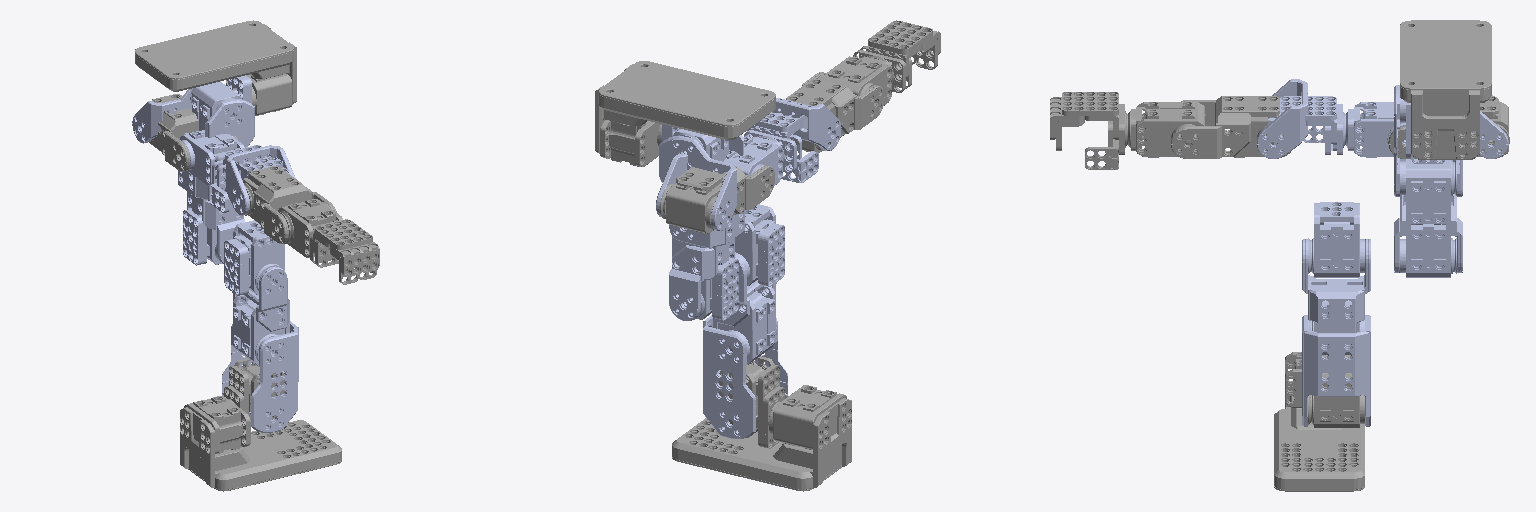
robot.urdf — MINI_URDF:
<?xml version="1.0" encoding="utf-8"?>
<!-- This URDF was automatically created by SolidWorks to URDF Exporter! Originally created by [author] ([email redacted]) 
     Commit Version: 1.5.1-0-g916b5db  Build Version: 1.5.7152.31018
     For more information, please see http://wiki.ros.org/sw_urdf_exporter -->
<robot
  name="MINI_URDF">
  <link
    name="Body">
    <inertial>
      <origin
        xyz="-0.000439782206750618 -0.00176289044495019 -0.0174893894432699"
        rpy="0 0 0" />
      <mass
        value="0.213114451983195" />
      <inertia
        ixx="8.021826343082E-05"
        ixy="-5.34931303519681E-08"
        ixz="1.34251842786594E-06"
        iyy="5.7436277552396E-05"
        iyz="-1.66268988929719E-08"
        izz="8.88874778029714E-05" />
    </inertial>
    <visual>
      <origin
        xyz="0 0 0"
        rpy="0 0 0" />
      <geometry>
        <mesh
          filename="package://MINI_URDF/meshes/Body.STL" />
      </geometry>
      <material
        name="">
        <color
          rgba="0.792156862745098 0.819607843137255 0.933333333333333 1" />
      </material>
    </visual>
    <collision>
      <origin
        xyz="0 0 0"
        rpy="0 0 0" />
      <geometry>
        <mesh
          filename="package://MINI_URDF/meshes/Body.STL" />
      </geometry>
    </collision>
  </link>
  <link
    name="R_arm_01">
    <inertial>
      <origin
        xyz="-1.41270281734611E-09 0.00915593369616421 -0.00456865100998947"
        rpy="0 0 0" />
      <mass
        value="0.0042561997534057" />
      <inertia
        ixx="4.75526787509665E-07"
        ixy="-2.7575584339645E-14"
        ixz="5.17770576673832E-14"
        iyy="1.10384151673514E-06"
        iyz="1.26621947092055E-07"
        izz="1.10650237204247E-06" />
    </inertial>
    <visual>
      <origin
        xyz="0 0 0"
        rpy="0 0 0" />
      <geometry>
        <mesh
          filename="package://MINI_URDF/meshes/R_arm_01.STL" />
      </geometry>
      <material
        name="">
        <color
          rgba="0.792156862745098 0.819607843137255 0.933333333333333 1" />
      </material>
    </visual>
    <collision>
      <origin
        xyz="0 0 0"
        rpy="0 0 0" />
      <geometry>
        <mesh
          filename="package://MINI_URDF/meshes/R_arm_01.STL" />
      </geometry>
    </collision>
  </link>
  <joint
    name="Joint_01"
    type="continuous">
    <origin
      xyz="0 -0.0389984717412249 0"
      rpy="0 0 3.14159265358979" />
    <parent
      link="Body" />
    <child
      link="R_arm_01" />
    <axis
      xyz="0 1 0" />
  </joint>
  <link
    name="R_arm_02">
    <inertial>
      <origin
        xyz="-0.000970492346490484 -0.0120458330772966 5.46980825607946E-05"
        rpy="0 0 0" />
      <mass
        value="0.0230012005288788" />
      <inertia
        ixx="4.15271742011055E-06"
        ixy="2.84313451261272E-07"
        ixz="2.1282747112138E-13"
        iyy="2.79006394276471E-06"
        iyz="-6.22945892654356E-08"
        izz="3.19855855058084E-06" />
    </inertial>
    <visual>
      <origin
        xyz="0 0 0"
        rpy="0 0 0" />
      <geometry>
        <mesh
          filename="package://MINI_URDF/meshes/R_arm_02.STL" />
      </geometry>
      <material
        name="">
        <color
          rgba="0.698039215686274 0.698039215686274 0.698039215686274 1" />
      </material>
    </visual>
    <collision>
      <origin
        xyz="0 0 0"
        rpy="0 0 0" />
      <geometry>
        <mesh
          filename="package://MINI_URDF/meshes/R_arm_02.STL" />
      </geometry>
    </collision>
  </link>
  <joint
    name="Joint_03"
    type="continuous">
    <origin
      xyz="0 0.0180015282587752 -0.0119999999999994"
      rpy="3.14159265358979 1.5707963267949 0" />
    <parent
      link="R_arm_01" />
    <child
      link="R_arm_02" />
    <axis
      xyz="0 0 1" />
  </joint>
  <link
    name="R_arm_03">
    <inertial>
      <origin
        xyz="-0.0012870653720509 -0.0199985926013708 -0.000178609255191555"
        rpy="0 0 0" />
      <mass
        value="0.0261581629564249" />
      <inertia
        ixx="2.73594377881704E-06"
        ixy="1.32989095115653E-08"
        ixz="2.36320882169955E-13"
        iyy="1.96473201193679E-06"
        iyz="-5.56452220588899E-08"
        izz="2.36571031389844E-06" />
    </inertial>
    <visual>
      <origin
        xyz="0 0 0"
        rpy="0 0 0" />
      <geometry>
        <mesh
          filename="package://MINI_URDF/meshes/R_arm_03.STL" />
      </geometry>
      <material
        name="">
        <color
          rgba="0.698039215686274 0.698039215686274 0.698039215686274 1" />
      </material>
    </visual>
    <collision>
      <origin
        xyz="0 0 0"
        rpy="0 0 0" />
      <geometry>
        <mesh
          filename="package://MINI_URDF/meshes/R_arm_03.STL" />
      </geometry>
    </collision>
  </link>
  <joint
    name="Joint_05"
    type="continuous">
    <origin
      xyz="0 -0.0449999999999999 0"
      rpy="0 0 0" />
    <parent
      link="R_arm_02" />
    <child
      link="R_arm_03" />
    <axis
      xyz="0 0 1" />
  </joint>
  <link
    name="L_arm_01">
    <inertial>
      <origin
        xyz="-1.41270208792719E-09 0.00915593369616433 -0.0045686510099891"
        rpy="0 0 0" />
      <mass
        value="0.0042561997534061" />
      <inertia
        ixx="4.75526787509679E-07"
        ixy="-2.75755880377047E-14"
        ixz="5.17770409744892E-14"
        iyy="1.10384151673518E-06"
        iyz="1.26621947092053E-07"
        izz="1.1065023720425E-06" />
    </inertial>
    <visual>
      <origin
        xyz="0 0 0"
        rpy="0 0 0" />
      <geometry>
        <mesh
          filename="package://MINI_URDF/meshes/L_arm_01.STL" />
      </geometry>
      <material
        name="">
        <color
          rgba="0.792156862745098 0.819607843137255 0.933333333333333 1" />
      </material>
    </visual>
    <collision>
      <origin
        xyz="0 0 0"
        rpy="0 0 0" />
      <geometry>
        <mesh
          filename="package://MINI_URDF/meshes/L_arm_01.STL" />
      </geometry>
    </collision>
  </link>
  <joint
    name="Joint_02"
    type="continuous">
    <origin
      xyz="0 0.0389984717412249 0"
      rpy="0 0 0" />
    <parent
      link="Body" />
    <child
      link="L_arm_01" />
    <axis
      xyz="0 1 0" />
  </joint>
  <link
    name="L_arm_02">
    <inertial>
      <origin
        xyz="0.000970490232161884 0.0120458330772935 -5.46978612398829E-05"
        rpy="0 0 0" />
      <mass
        value="0.0230012005288788" />
      <inertia
        ixx="4.1527174201124E-06"
        ixy="2.84312896323333E-07"
        ixz="-2.12827267447162E-13"
        iyy="2.79006394276285E-06"
        iyz="-6.22944868971583E-08"
        izz="3.19855855058084E-06" />
    </inertial>
    <visual>
      <origin
        xyz="0 0 0"
        rpy="0 0 0" />
      <geometry>
        <mesh
          filename="package://MINI_URDF/meshes/L_arm_02.STL" />
      </geometry>
      <material
        name="">
        <color
          rgba="0.698039215686274 0.698039215686274 0.698039215686274 1" />
      </material>
    </visual>
    <collision>
      <origin
        xyz="0 0 0"
        rpy="0 0 0" />
      <geometry>
        <mesh
          filename="package://MINI_URDF/meshes/L_arm_02.STL" />
      </geometry>
    </collision>
  </link>
  <joint
    name="Joint_04"
    type="continuous">
    <origin
      xyz="0 0.0180015282587751 -0.012"
      rpy="3.14159265358979 -1.5707963267949 0" />
    <parent
      link="L_arm_01" />
    <child
      link="L_arm_02" />
    <axis
      xyz="0 0 1" />
  </joint>
  <link
    name="L_arm_03">
    <inertial>
      <origin
        xyz="-0.00128706351292113 0.0199985926013671 -0.000178609255192081"
        rpy="0 0 0" />
      <mass
        value="0.0261581629564249" />
      <inertia
        ixx="2.73594377881712E-06"
        ixy="-1.32983545758053E-08"
        ixz="-2.36321046698564E-13"
        iyy="1.96473201193671E-06"
        iyz="5.56452220588883E-08"
        izz="2.36571031389844E-06" />
    </inertial>
    <visual>
      <origin
        xyz="0 0 0"
        rpy="0 0 0" />
      <geometry>
        <mesh
          filename="package://MINI_URDF/meshes/L_arm_03.STL" />
      </geometry>
      <material
        name="">
        <color
          rgba="0.792156862745098 0.819607843137255 0.933333333333333 1" />
      </material>
    </visual>
    <collision>
      <origin
        xyz="0 0 0"
        rpy="0 0 0" />
      <geometry>
        <mesh
          filename="package://MINI_URDF/meshes/L_arm_03.STL" />
      </geometry>
    </collision>
  </link>
  <joint
    name="Joint_06"
    type="continuous">
    <origin
      xyz="0 0.045 0"
      rpy="3.14159265358979 0 3.14159265358979" />
    <parent
      link="L_arm_02" />
    <child
      link="L_arm_03" />
    <axis
      xyz="0 0 1" />
  </joint>
  <link
    name="R_Leg_01">
    <inertial>
      <origin
        xyz="-0.00122067250788746 0.0135315873125858 6.32144396904115E-05"
        rpy="0 0 0" />
      <mass
        value="0.0199023992993582" />
      <inertia
        ixx="1.60303748122172E-06"
        ixy="-2.77466745514351E-13"
        ixz="-6.22945380812989E-08"
        iyy="2.4687856445552E-06"
        iyz="-2.3632088238629E-13"
        izz="2.15851329852161E-06" />
    </inertial>
    <visual>
      <origin
        xyz="0 0 0"
        rpy="0 0 0" />
      <geometry>
        <mesh
          filename="package://MINI_URDF/meshes/R_Leg_01.STL" />
      </geometry>
      <material
        name="">
        <color
          rgba="0.792156862745098 0.819607843137255 0.933333333333333 1" />
      </material>
    </visual>
    <collision>
      <origin
        xyz="0 0 0"
        rpy="0 0 0" />
      <geometry>
        <mesh
          filename="package://MINI_URDF/meshes/R_Leg_01.STL" />
      </geometry>
    </collision>
  </link>
  <joint
    name="Joint_07"
    type="continuous">
    <origin
      xyz="0 0.0240000000000037 -0.0719999999999993"
      rpy="1.5707963267949 1.5707963267949 0" />
    <parent
      link="Body" />
    <child
      link="R_Leg_01" />
    <axis
      xyz="0 1 0" />
  </joint>
  <link
    name="R_Leg_02">
    <inertial>
      <origin
        xyz="-5.46980825605579E-05 -0.0329541669227093 0.000970492346435132"
        rpy="0 0 0" />
      <mass
        value="0.0230012005288787" />
      <inertia
        ixx="3.19855855058083E-06"
        ixy="-6.22945892654359E-08"
        ixz="2.1282708665169E-13"
        iyy="2.79006394276121E-06"
        iyz="2.84313451252895E-07"
        izz="4.15271742011404E-06" />
    </inertial>
    <visual>
      <origin
        xyz="0 0 0"
        rpy="0 0 0" />
      <geometry>
        <mesh
          filename="package://MINI_URDF/meshes/R_Leg_02.STL" />
      </geometry>
      <material
        name="">
        <color
          rgba="0.792156862745098 0.819607843137255 0.933333333333333 1" />
      </material>
    </visual>
    <collision>
      <origin
        xyz="0 0 0"
        rpy="0 0 0" />
      <geometry>
        <mesh
          filename="package://MINI_URDF/meshes/R_Leg_02.STL" />
      </geometry>
    </collision>
  </link>
  <joint
    name="Joint_09"
    type="continuous">
    <origin
      xyz="0.00600000000000055 0.0150000000000001 0"
      rpy="1.5707963267949 1.5707963267949 0" />
    <parent
      link="R_Leg_01" />
    <child
      link="R_Leg_02" />
    <axis
      xyz="1 0 0" />
  </joint>
  <link
    name="R_Leg_03">
    <inertial>
      <origin
        xyz="5.03561500136973E-09 0.00688303209752944 0.0178997451661066"
        rpy="0 0 0" />
      <mass
        value="0.00898936103979326" />
      <inertia
        ixx="3.47626399724043E-06"
        ixy="-2.88931223149452E-13"
        ixz="-3.91806212359718E-13"
        iyy="4.72558607476186E-06"
        iyz="4.51182757181925E-07"
        izz="2.97044041191188E-06" />
    </inertial>
    <visual>
      <origin
        xyz="0 0 0"
        rpy="0 0 0" />
      <geometry>
        <mesh
          filename="package://MINI_URDF/meshes/R_Leg_03.STL" />
      </geometry>
      <material
        name="">
        <color
          rgba="0.792156862745098 0.819607843137255 0.933333333333333 1" />
      </material>
    </visual>
    <collision>
      <origin
        xyz="0 0 0"
        rpy="0 0 0" />
      <geometry>
        <mesh
          filename="package://MINI_URDF/meshes/R_Leg_03.STL" />
      </geometry>
    </collision>
  </link>
  <joint
    name="Joint_11"
    type="continuous">
    <origin
      xyz="0 -0.045 0"
      rpy="1.5707963267949 0 0" />
    <parent
      link="R_Leg_02" />
    <child
      link="R_Leg_03" />
    <axis
      xyz="1 0 0" />
  </joint>
  <link
    name="R_Leg_04">
    <inertial>
      <origin
        xyz="-0.00316088425248871 -6.42923681117707E-05 -0.00564953700906368"
        rpy="0 0 0" />
      <mass
        value="0.0195687148748515" />
      <inertia
        ixx="2.07165533917271E-06"
        ixy="4.40487232041522E-08"
        ixz="-4.99651940806277E-07"
        iyy="2.25015128902117E-06"
        iyz="4.40490574121883E-08"
        izz="2.07165478424287E-06" />
    </inertial>
    <visual>
      <origin
        xyz="0 0 0"
        rpy="0 0 0" />
      <geometry>
        <mesh
          filename="package://MINI_URDF/meshes/R_Leg_04.STL" />
      </geometry>
      <material
        name="">
        <color
          rgba="0.792156862745098 0.819607843137255 0.933333333333333 1" />
      </material>
    </visual>
    <collision>
      <origin
        xyz="0 0 0"
        rpy="0 0 0" />
      <geometry>
        <mesh
          filename="package://MINI_URDF/meshes/R_Leg_04.STL" />
      </geometry>
    </collision>
  </link>
  <joint
    name="Joint_13"
    type="continuous">
    <origin
      xyz="0 0 0.042"
      rpy="0 -0.785398163399273 -1.5707963267949" />
    <parent
      link="R_Leg_03" />
    <child
      link="R_Leg_04" />
    <axis
      xyz="0 1 0" />
  </joint>
  <link
    name="R_Leg_05">
    <inertial>
      <origin
        xyz="-0.0122476227027532 0.00800871149336697 0.0210614114822718"
        rpy="0 0 0" />
      <mass
        value="0.036528862342176" />
      <inertia
        ixx="2.06601022349226E-05"
        ixy="-6.84109636015955E-14"
        ixz="-1.52663419708559E-06"
        iyy="1.66434196036715E-05"
        iyz="-6.22941742118654E-08"
        izz="6.87373955773601E-06" />
    </inertial>
    <visual>
      <origin
        xyz="0 0 0"
        rpy="0 0 0" />
      <geometry>
        <mesh
          filename="package://MINI_URDF/meshes/R_Leg_05.STL" />
      </geometry>
      <material
        name="">
        <color
          rgba="0.698039215686274 0.698039215686274 0.698039215686274 1" />
      </material>
    </visual>
    <collision>
      <origin
        xyz="0 0 0"
        rpy="0 0 0" />
      <geometry>
        <mesh
          filename="package://MINI_URDF/meshes/R_Leg_05.STL" />
      </geometry>
    </collision>
  </link>
  <joint
    name="Joint_15"
    type="continuous">
    <origin
      xyz="0 0 0"
      rpy="-3.14159265358979 0.785398163395624 3.14159265358979" />
    <parent
      link="R_Leg_04" />
    <child
      link="R_Leg_05" />
    <axis
      xyz="0 0 1" />
  </joint>
  <link
    name="L_Leg_01">
    <inertial>
      <origin
        xyz="0.0012206725078875 -0.0135315848690106 -6.32144396902658E-05"
        rpy="0 0 0" />
      <mass
        value="0.0199023992993582" />
      <inertia
        ixx="1.60303748122172E-06"
        ixy="2.77466746166113E-13"
        ixz="-6.22945380812994E-08"
        iyy="2.46878564455521E-06"
        iyz="2.36320882928122E-13"
        izz="2.15851329852161E-06" />
    </inertial>
    <visual>
      <origin
        xyz="0 0 0"
        rpy="0 0 0" />
      <geometry>
        <mesh
          filename="package://MINI_URDF/meshes/L_Leg_01.STL" />
      </geometry>
      <material
        name="">
        <color
          rgba="0.792156862745098 0.819607843137255 0.933333333333333 1" />
      </material>
    </visual>
    <collision>
      <origin
        xyz="0 0 0"
        rpy="0 0 0" />
      <geometry>
        <mesh
          filename="package://MINI_URDF/meshes/L_Leg_01.STL" />
      </geometry>
    </collision>
  </link>
  <joint
    name="Joint_08"
    type="continuous">
    <origin
      xyz="0 -0.024 -0.072"
      rpy="1.5707963267949 -1.5707963267949 0" />
    <parent
      link="Body" />
    <child
      link="L_Leg_01" />
    <axis
      xyz="0 1 0" />
  </joint>
  <link
    name="L_Leg_02">
    <inertial>
      <origin
        xyz="5.46978612398705E-05 -0.0329541669227048 0.000970490232217826"
        rpy="0 0 0" />
      <mass
        value="0.0230012005288788" />
      <inertia
        ixx="3.19855855058084E-06"
        ixy="6.22944868971592E-08"
        ixz="2.12827161630443E-13"
        iyy="2.79006394276382E-06"
        iyz="2.84312896325649E-07"
        izz="4.15271742011144E-06" />
    </inertial>
    <visual>
      <origin
        xyz="0 0 0"
        rpy="0 0 0" />
      <geometry>
        <mesh
          filename="package://MINI_URDF/meshes/L_Leg_02.STL" />
      </geometry>
      <material
        name="">
        <color
          rgba="0.792156862745098 0.819607843137255 0.933333333333333 1" />
      </material>
    </visual>
    <collision>
      <origin
        xyz="0 0 0"
        rpy="0 0 0" />
      <geometry>
        <mesh
          filename="package://MINI_URDF/meshes/L_Leg_02.STL" />
      </geometry>
    </collision>
  </link>
  <joint
    name="Joint_10"
    type="continuous">
    <origin
      xyz="-0.00600000000000001 -0.0150000000000001 0"
      rpy="1.5707963267949 1.5707963267949 0" />
    <parent
      link="L_Leg_01" />
    <child
      link="L_Leg_02" />
    <axis
      xyz="1 0 0" />
  </joint>
  <link
    name="L_Leg_03">
    <inertial>
      <origin
        xyz="5.03561412359965E-09 0.00688303209746471 0.0178997451661317"
        rpy="0 0 0" />
      <mass
        value="0.00898936103979274" />
      <inertia
        ixx="3.47626399724036E-06"
        ixy="-2.88931315682323E-13"
        ixz="-3.91806204278018E-13"
        iyy="4.72558607475848E-06"
        iyz="4.51182757188346E-07"
        izz="2.97044041191501E-06" />
    </inertial>
    <visual>
      <origin
        xyz="0 0 0"
        rpy="0 0 0" />
      <geometry>
        <mesh
          filename="package://MINI_URDF/meshes/L_Leg_03.STL" />
      </geometry>
      <material
        name="">
        <color
          rgba="0.792156862745098 0.819607843137255 0.933333333333333 1" />
      </material>
    </visual>
    <collision>
      <origin
        xyz="0 0 0"
        rpy="0 0 0" />
      <geometry>
        <mesh
          filename="package://MINI_URDF/meshes/L_Leg_03.STL" />
      </geometry>
    </collision>
  </link>
  <joint
    name="Joint_12"
    type="continuous">
    <origin
      xyz="0 -0.045 0"
      rpy="1.5707963267949 0 0" />
    <parent
      link="L_Leg_02" />
    <child
      link="L_Leg_03" />
    <axis
      xyz="1 0 0" />
  </joint>
  <link
    name="L_Leg_04">
    <inertial>
      <origin
        xyz="-0.00175974572544712 -0.00622990861915076 6.42923681113718E-05"
        rpy="0 0 0" />
      <mass
        value="0.0195687148748515" />
      <inertia
        ixx="2.57130700251407E-06"
        ixy="2.77466746369663E-13"
        ixz="2.36320882537518E-13"
        iyy="1.57200312090151E-06"
        iyz="-6.22945380812988E-08"
        izz="2.25015128902117E-06" />
    </inertial>
    <visual>
      <origin
        xyz="0 0 0"
        rpy="0 0 0" />
      <geometry>
        <mesh
          filename="package://MINI_URDF/meshes/L_Leg_04.STL" />
      </geometry>
      <material
        name="">
        <color
          rgba="0.698039215686274 0.698039215686274 0.698039215686274 1" />
      </material>
    </visual>
    <collision>
      <origin
        xyz="0 0 0"
        rpy="0 0 0" />
      <geometry>
        <mesh
          filename="package://MINI_URDF/meshes/L_Leg_04.STL" />
      </geometry>
    </collision>
  </link>
  <joint
    name="Joint_14"
    type="continuous">
    <origin
      xyz="0 0 0.042"
      rpy="1.5707963267949 0 1.5707963267949" />
    <parent
      link="L_Leg_03" />
    <child
      link="L_Leg_04" />
    <axis
      xyz="0 0 1" />
  </joint>
  <link
    name="L_Leg_05">
    <inertial>
      <origin
        xyz="0.0122476216469397 -0.0180312431243475 -0.0135128389742447"
        rpy="0 0 0" />
      <mass
        value="0.0365288623421752" />
      <inertia
        ixx="2.06601022875296E-05"
        ixy="-8.16482494192012E-07"
        ixz="-1.28994811604738E-06"
        iyy="1.37926137294938E-05"
        iyz="-4.4416492358411E-06"
        izz="9.72454537930496E-06" />
    </inertial>
    <visual>
      <origin
        xyz="0 0 0"
        rpy="0 0 0" />
      <geometry>
        <mesh
          filename="package://MINI_URDF/meshes/L_Leg_05.STL" />
      </geometry>
      <material
        name="">
        <color
          rgba="0.698039215686274 0.698039215686274 0.698039215686274 1" />
      </material>
    </visual>
    <collision>
      <origin
        xyz="0 0 0"
        rpy="0 0 0" />
      <geometry>
        <mesh
          filename="package://MINI_URDF/meshes/L_Leg_05.STL" />
      </geometry>
    </collision>
  </link>
  <joint
    name="Joint_16"
    type="continuous">
    <origin
      xyz="0 0 0"
      rpy="2.13509754051644 0 1.5707963440248" />
    <parent
      link="L_Leg_04" />
    <child
      link="L_Leg_05" />
    <axis
      xyz="0 0.534825498411923 0.844962535411149" />
  </joint>
</robot>

--- Facts derived from the render (not from the file) ---
3 views of the same robot in one strip: view 1: azimuth 30°, elevation 25°; view 2: azimuth 150°, elevation 25°; view 3: azimuth 270°, elevation 25° (orthographic).
Model MINI_URDF with 17 links and 16 joints (16 continuous), rooted at Body, posed every joint at zero.
Visible links, largest first — view 1: L_Leg_05, R_Leg_05, R_arm_03, L_Leg_03, L_Leg_02, L_arm_03, L_Leg_01, R_arm_02, R_Leg_03, L_arm_02, R_Leg_04, R_arm_01 (+4 smaller); view 2: R_Leg_05, L_Leg_05, L_Leg_03, R_arm_03, L_arm_02, L_arm_03, R_Leg_02, L_Leg_01, L_Leg_02, R_arm_02, R_Leg_03, L_Leg_04 (+4 smaller); view 3: R_Leg_05, L_Leg_05, R_arm_03, R_arm_02, L_Leg_03, L_arm_03, R_Leg_02, L_Leg_01, L_Leg_02, R_Leg_01, R_arm_01, L_Leg_04 (+4 smaller).
Link boxes in pixels (box(x1,y1,x2,y2)): L_Leg_05: box(180, 396, 341, 491); R_Leg_05: box(135, 20, 296, 115); R_arm_03: box(278, 199, 379, 284); L_Leg_03: box(222, 321, 298, 432); L_Leg_02: box(232, 266, 289, 365); L_arm_03: box(180, 130, 289, 212); L_Leg_01: box(224, 220, 284, 295); R_arm_02: box(242, 166, 336, 243); R_Leg_03: box(178, 88, 254, 200); L_arm_02: box(149, 94, 237, 171); R_Leg_04: box(190, 75, 251, 130); R_arm_01: box(226, 145, 295, 215); R_Leg_05: box(595, 61, 775, 166); L_Leg_05: box(672, 385, 851, 491); L_Leg_03: box(703, 315, 787, 438); R_arm_03: box(818, 20, 940, 105); L_arm_02: box(660, 165, 774, 233); L_arm_03: box(724, 98, 818, 185); R_Leg_02: box(669, 235, 734, 320); L_Leg_01: box(735, 204, 784, 286); L_Leg_02: box(713, 256, 776, 363); R_arm_02: box(786, 72, 884, 152); R_Leg_03: box(659, 135, 744, 248); L_Leg_04: box(718, 356, 784, 448); R_Leg_05: box(1400, 20, 1491, 159); L_Leg_05: box(1274, 352, 1364, 491); R_arm_03: box(1050, 92, 1205, 169); R_arm_02: box(1171, 96, 1290, 158); L_Leg_03: box(1302, 315, 1370, 426); L_arm_03: box(1268, 96, 1405, 157); R_Leg_02: box(1394, 159, 1462, 272); L_Leg_01: box(1308, 202, 1364, 277); L_Leg_02: box(1302, 239, 1370, 354); R_Leg_01: box(1400, 224, 1456, 277); R_arm_01: box(1257, 79, 1307, 158); L_Leg_04: box(1308, 355, 1364, 427).
Bounding box of the posed robot: 0.096 × 0.2405 × 0.236 m (x, y, z).
Meshes: 17 distinct files referenced, 16 mesh visuals loaded (16 binary STL); not drawn: 1 (reference not matched to a file when rendering).